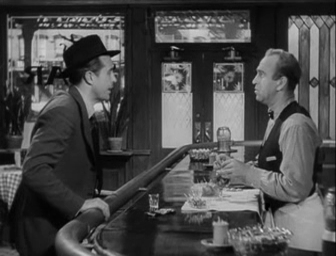face: (97, 61, 118, 101), (252, 59, 271, 101)
ms: (1, 1, 336, 256)
person: (3, 35, 121, 256), (215, 48, 323, 256)
